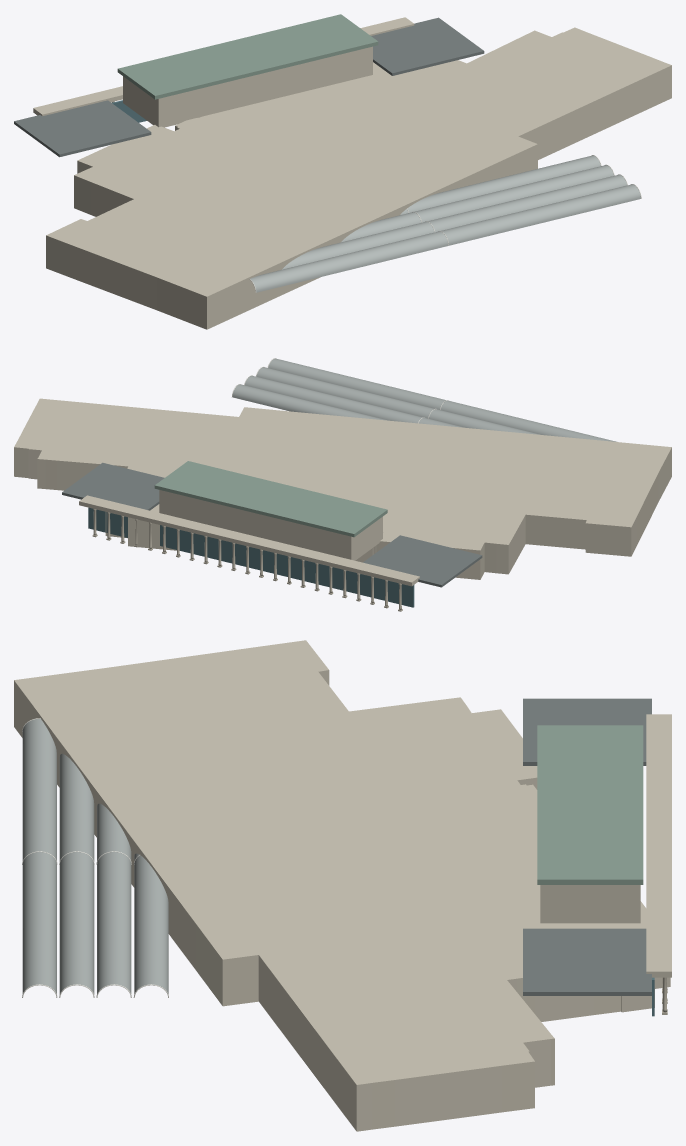
Rendered from union_station.glb.
3 views of the same model, one above another, from view 1: azimuth 30°, elevation 25°; view 2: azimuth 150°, elevation 25°; view 3: azimuth 270°, elevation 25° (orthographic). The views are drawn at different scales.
Parts seen in each view (by area): view 1: Station wings, Train shed vault, Great Hall copper roof, Wing roof; view 2: Station wings, Train shed vault, Great Hall copper roof, Wing roof, Main entrance shadow; view 3: Station wings, Train shed vault, Great Hall copper roof, Wing roof.
Part boxes in pixels (x1,y1,x2,y2): Station wings: (33, 17, 671, 329); Train shed vault: (250, 155, 640, 292); Great Hall copper roof: (117, 14, 378, 99); Wing roof: (14, 17, 484, 157); Station wings: (14, 398, 671, 611); Train shed vault: (232, 358, 616, 441); Great Hall copper roof: (154, 461, 387, 537); Wing roof: (62, 462, 482, 587); Main entrance shadow: (88, 507, 414, 607); Station wings: (14, 640, 671, 1131); Train shed vault: (22, 719, 168, 994); Great Hall copper roof: (537, 725, 643, 884); Wing roof: (523, 698, 651, 995).
Bounding box in the file's own units: 368 × 36 × 230.
